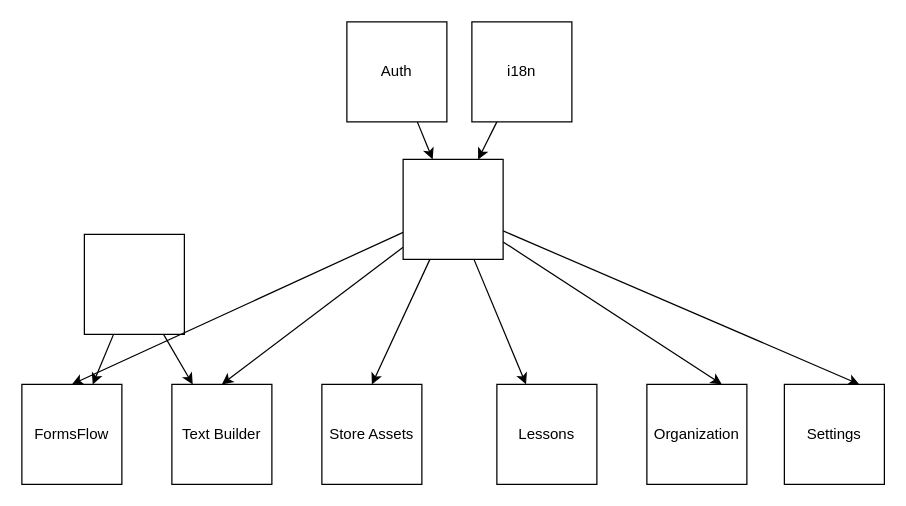
This 906x506 diagram has some shape labels left out. The shapes that lost their labels are listed below. From the top down, each one's box as (x1, y1, x2, y2) in pixels, then its label:
(402, 158, 503, 259): Application
(83, 233, 184, 334): Widgets
